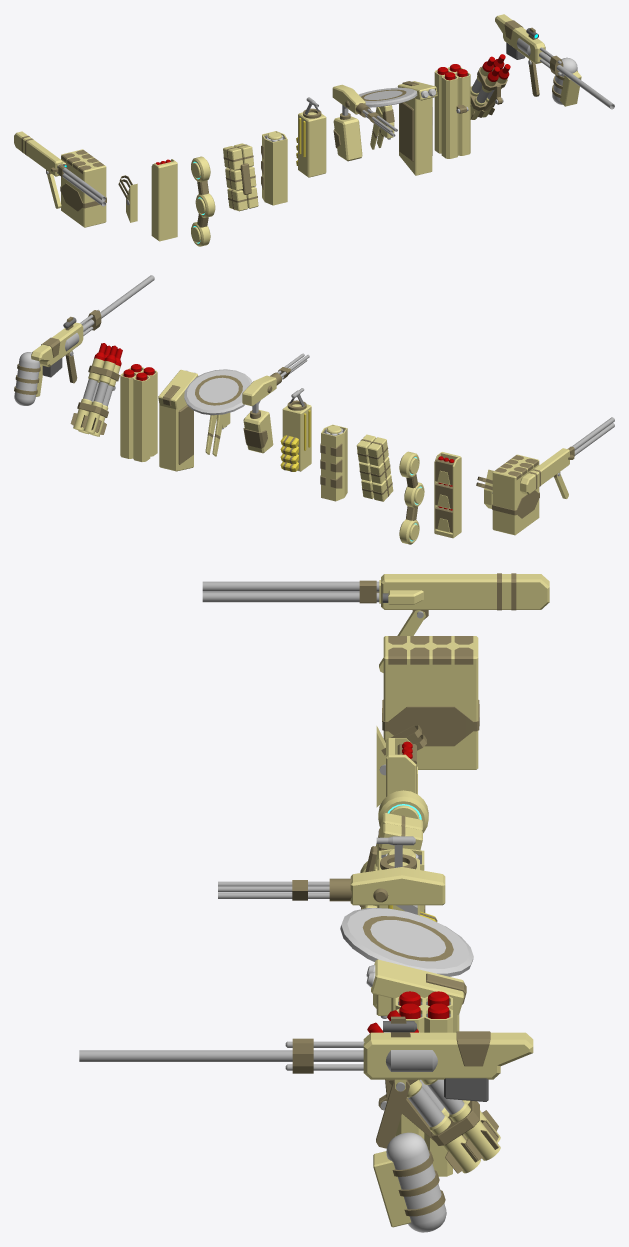
The model's file is ShoulderEXGsColored.fbx.
The picture shows the model from 3 angles, top to bottom: view 1: azimuth 30°, elevation 25°; view 2: azimuth 150°, elevation 25°; view 3: azimuth 270°, elevation 25°; orthographic projection. The views are drawn at different scales.
Visible parts, largest first — view 1: pCube19, polySurface1, pCube50, pCube21, pCube38, pCube31, pCube29, pCube102, pCylinder29, pCube9, pCube22, pCube28 (+12 smaller); view 2: pCube19, polySurface1, pCylinder29, pCube21, pCube38, pCube31, pCube50, pCylinder28, pCube102, pCube9, pCube22, pCylinder70 (+12 smaller); view 3: polySurface1, pCylinder29, pCube102, pCube9, pCylinder28, pCube28, pCylinder12, pCube21, pCube19, pCylinder120, pCylinder123, pCylinder8 (+9 smaller).
Boxes of the visible parts, left/top/right/bottom form: pCube19: left=434, top=67, right=470, bottom=158; polySurface1: left=60, top=149, right=106, bottom=227; pCube50: left=151, top=159, right=177, bottom=241; pCube21: left=397, top=81, right=437, bottom=175; pCube38: left=262, top=131, right=287, bottom=205; pCube31: left=298, top=112, right=326, bottom=177; pCube29: left=333, top=116, right=362, bottom=161; pCube102: left=14, top=131, right=62, bottom=176; pCylinder29: left=359, top=87, right=417, bottom=107; pCube9: left=495, top=14, right=545, bottom=63; pCube22: left=399, top=102, right=432, bottom=161; pCube28: left=332, top=84, right=365, bottom=114; pCube19: left=120, top=367, right=157, bottom=461; polySurface1: left=492, top=454, right=539, bottom=535; pCylinder29: left=184, top=369, right=252, bottom=415; pCube21: left=158, top=369, right=198, bottom=471; pCube38: left=321, top=424, right=347, bottom=501; pCube31: left=282, top=404, right=311, bottom=471; pCube50: left=434, top=452, right=461, bottom=538; pCylinder28: left=14, top=352, right=40, bottom=405; pCube102: left=520, top=448, right=569, bottom=494; pCube9: left=31, top=322, right=83, bottom=366; pCube22: left=178, top=405, right=193, bottom=464; pCylinder70: left=84, top=345, right=117, bottom=433; polySurface1: left=382, top=636, right=479, bottom=769; pCylinder29: left=340, top=908, right=473, bottom=976; pCube102: left=379, top=573, right=549, bottom=610; pCube9: left=363, top=1032, right=533, bottom=1079; pCylinder28: left=386, top=1132, right=446, bottom=1232; pCube28: left=350, top=867, right=445, bottom=905; pCylinder12: left=79, top=1050, right=363, bottom=1061; pCube21: left=371, top=959, right=464, bottom=1136; pCube19: left=395, top=996, right=452, bottom=1176; pCylinder120: left=202, top=581, right=379, bottom=591; pCylinder123: left=202, top=592, right=379, bottom=602; pCylinder8: left=407, top=1079, right=480, bottom=1173.
Bounding box in the file's own units: 72.32 × 17.73 × 27.72.
